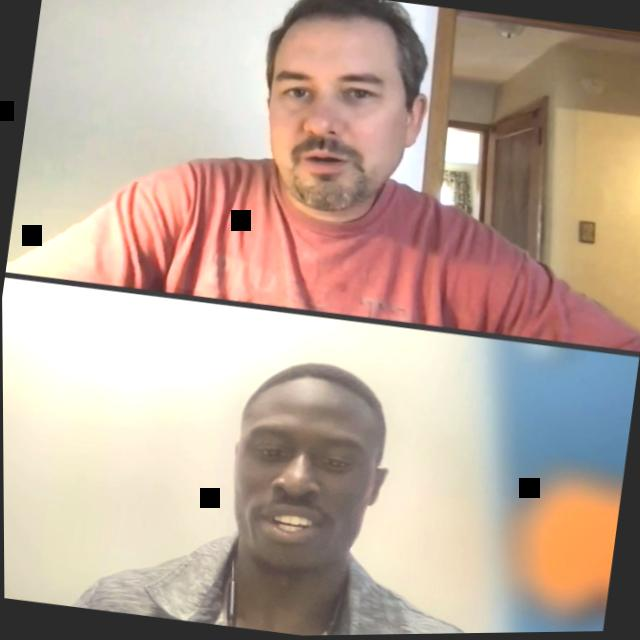NO-Mask: (217, 365, 397, 589), (252, 0, 432, 224)
